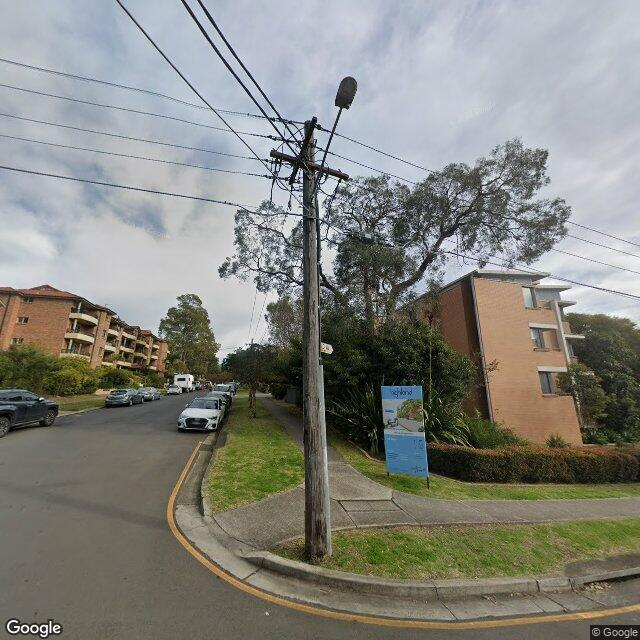crossarm: (270, 148, 350, 180), (288, 116, 318, 186)
streetlight: (312, 76, 358, 197)
timber-pole: (301, 139, 333, 564)
